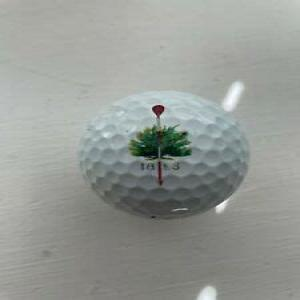Golf: (77, 91, 250, 222)
